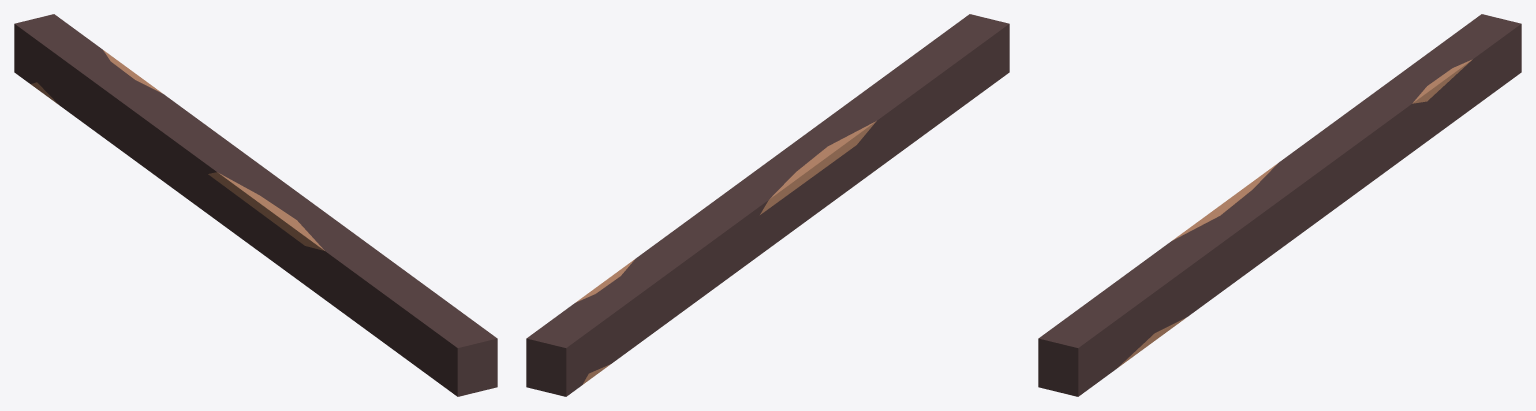
Rendered from builder_51.FBX.
3 views of the same model, side by side, from view 1: azimuth 30°, elevation 25°; view 2: azimuth 150°, elevation 25°; view 3: azimuth 330°, elevation 25° (orthographic).
Parts seen in each view (by area): view 1: builder_51; view 2: builder_51; view 3: builder_51.
Boxes of the visible parts, x1,y1,x2,y2 form: builder_51: (14, 14, 497, 396); builder_51: (526, 14, 1009, 396); builder_51: (1038, 14, 1521, 396).
Size of the model in its own units: 6.97 by 8.18 by 135.
